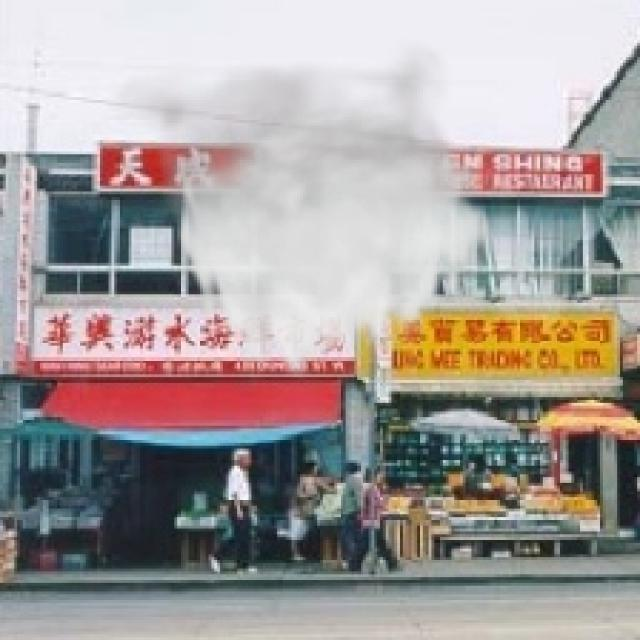smoke: (106, 37, 497, 386)
